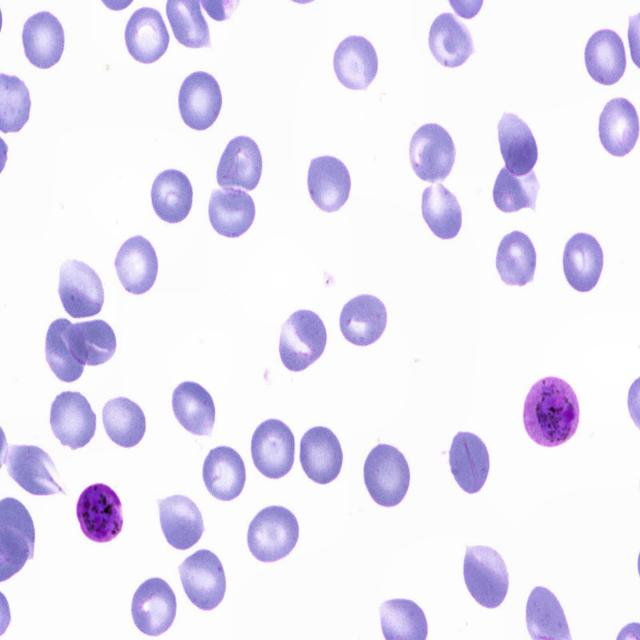difficult: (521, 375, 581, 450), (76, 480, 126, 542)
red blood cell: (460, 541, 512, 612), (361, 441, 414, 510), (495, 106, 543, 180), (246, 504, 302, 566), (56, 255, 106, 323), (2, 443, 65, 496), (177, 550, 229, 614), (250, 414, 298, 482), (446, 429, 494, 496), (409, 120, 457, 187), (299, 422, 349, 486), (215, 133, 265, 197), (279, 310, 328, 375), (169, 378, 221, 439), (128, 575, 178, 638), (48, 388, 98, 450), (120, 8, 173, 66), (420, 178, 466, 244), (426, 13, 477, 72), (114, 234, 162, 296), (58, 319, 119, 367), (332, 34, 382, 92), (178, 70, 225, 131), (206, 184, 258, 239), (307, 153, 353, 214), (200, 445, 248, 503), (21, 10, 67, 70), (150, 166, 196, 226), (45, 318, 88, 382), (158, 493, 205, 551), (102, 394, 150, 450), (563, 231, 606, 293), (339, 293, 388, 346), (495, 230, 540, 287), (584, 28, 628, 86), (597, 98, 640, 157), (492, 161, 540, 211)
